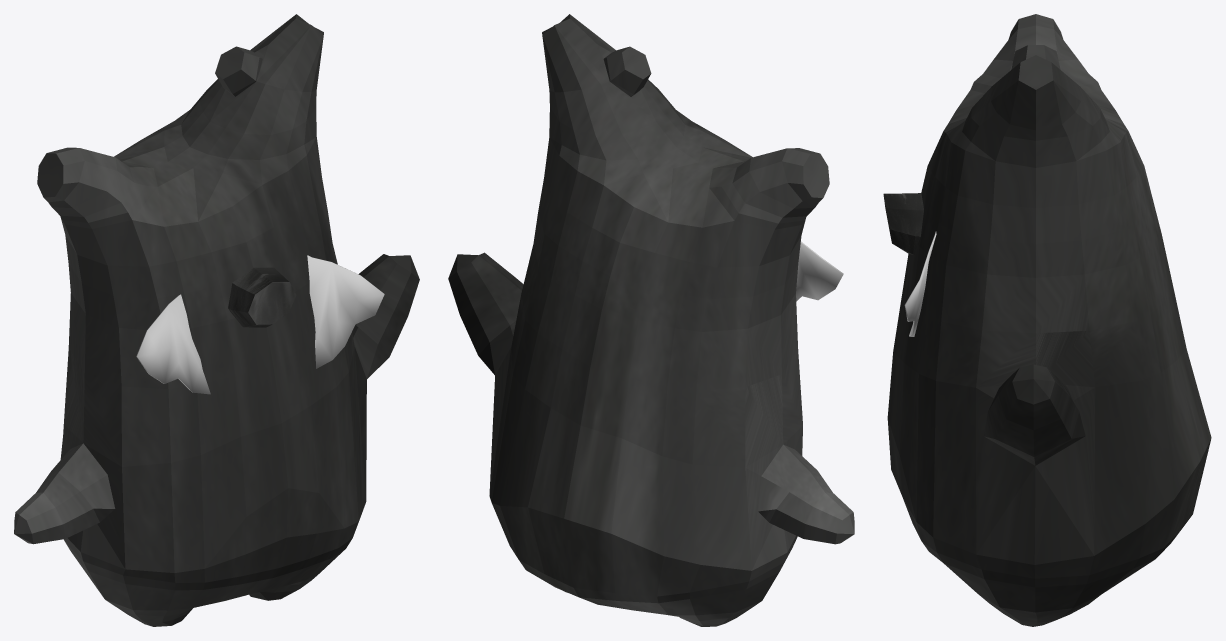
Rendered from frame_0005.obj.
3 renders of one model, left to right at view 1: azimuth 30°, elevation 25°; view 2: azimuth 150°, elevation 25°; view 3: azimuth 270°, elevation 25°, orthographic.
Visible parts, largest first — view 1: korok, leaf, nose; view 2: korok, leaf; view 3: korok, nose, leaf.
Part boxes in pixels (<box>): korok: <box>14,14,419,626</box>; leaf: <box>136,255,384,394</box>; nose: <box>228,267,296,327</box>; korok: <box>448,14,854,626</box>; leaf: <box>796,241,843,301</box>; korok: <box>887,14,1211,626</box>; nose: <box>883,193,923,254</box>; leaf: <box>904,231,936,336</box>.
Size of the model in its own units: 1.7 by 2.31 by 1.18.
